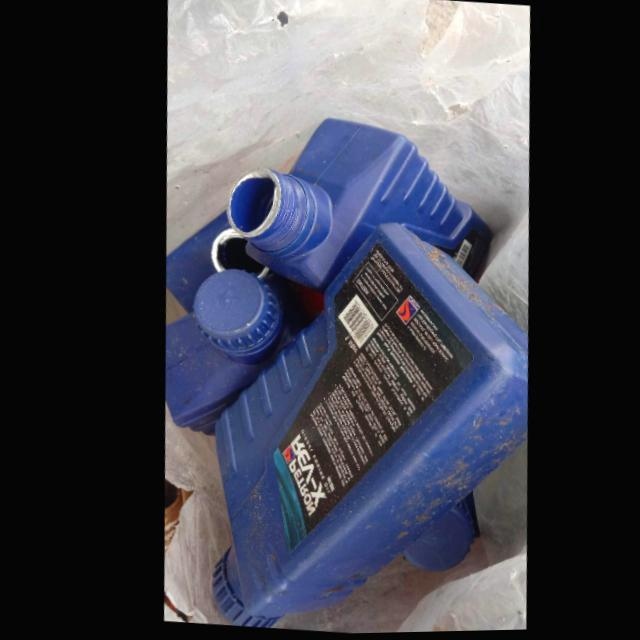plastic_container: (200, 223, 521, 628), (222, 118, 487, 293), (157, 269, 286, 434), (160, 210, 269, 313)
